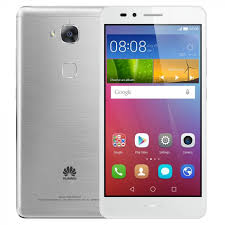huawei: (102, 5, 206, 219), (12, 5, 103, 221)
